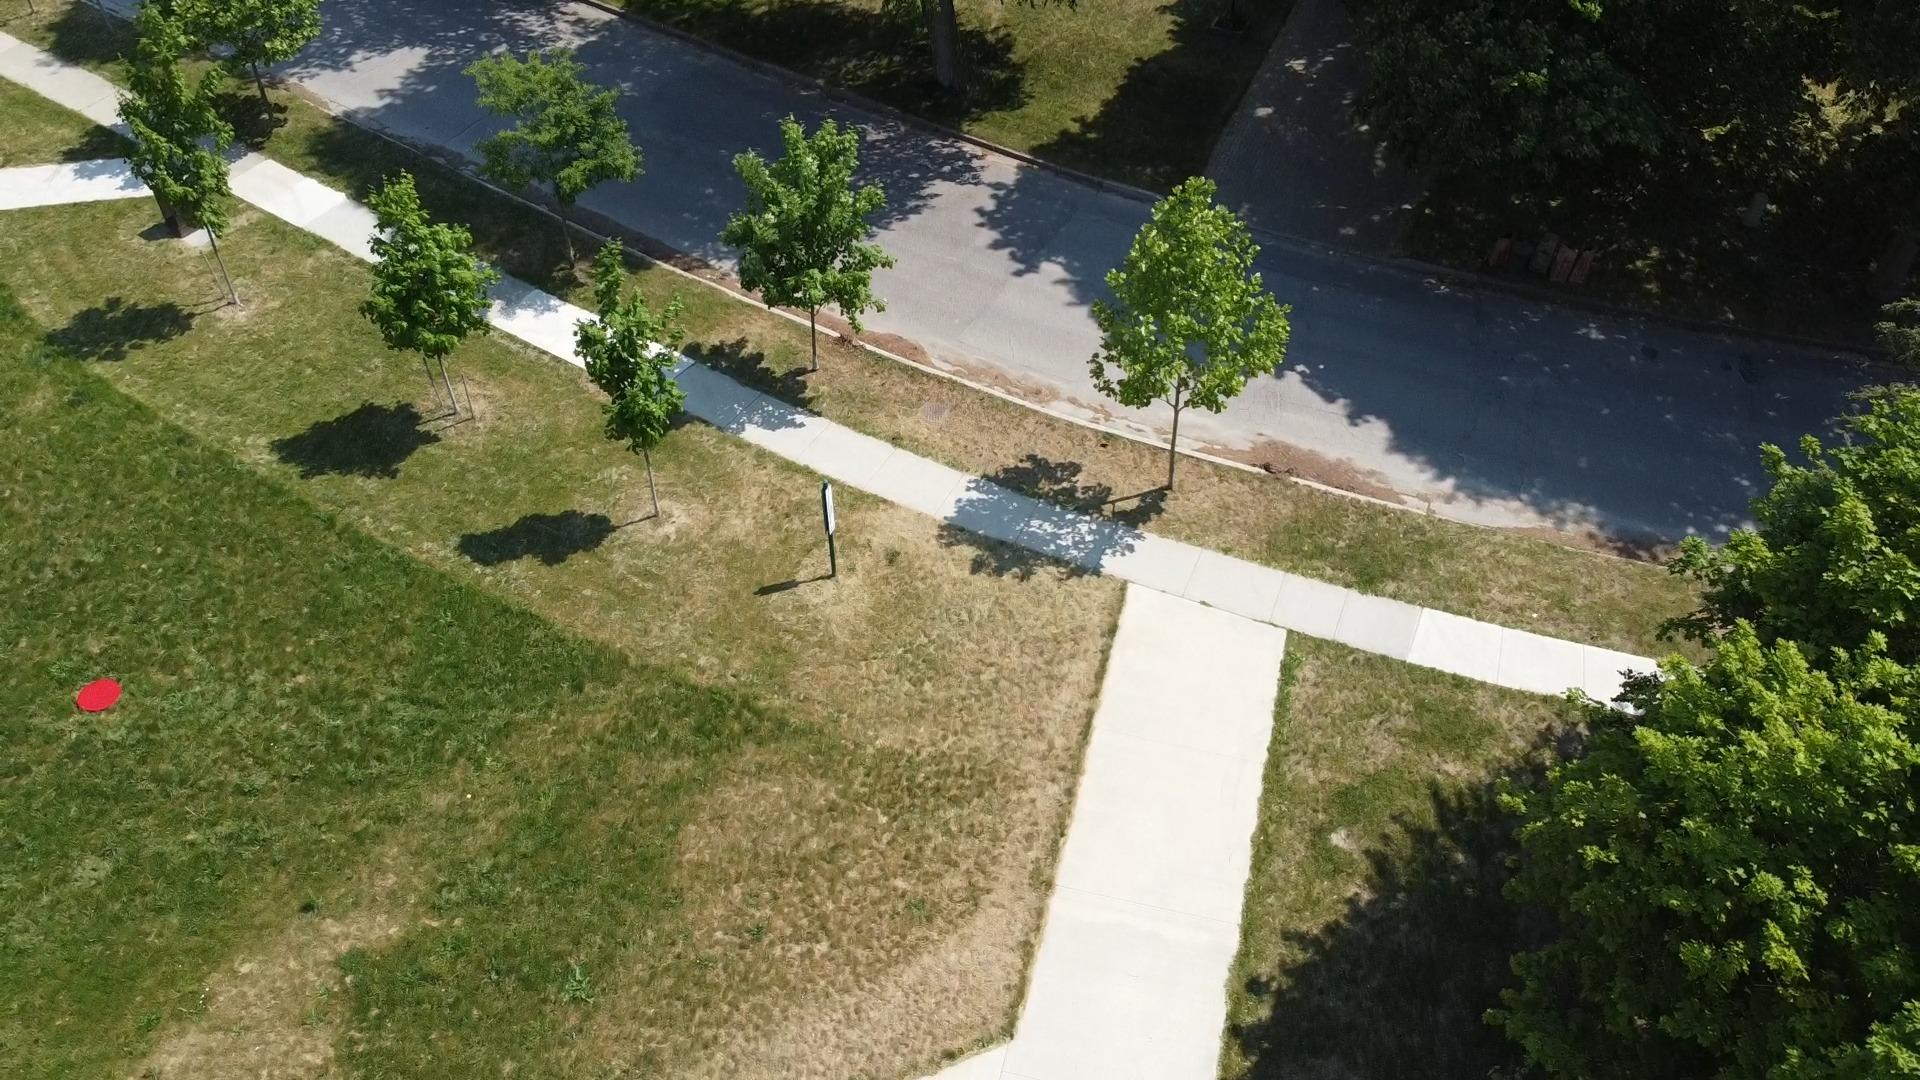Red: (76, 676, 123, 713)
